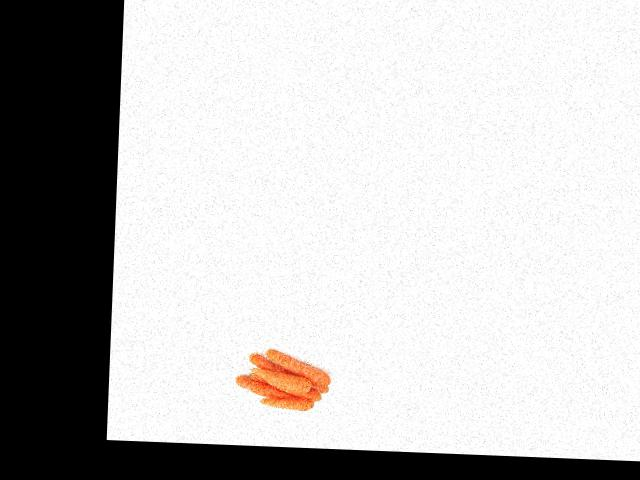carrot: (266, 347, 336, 388)
